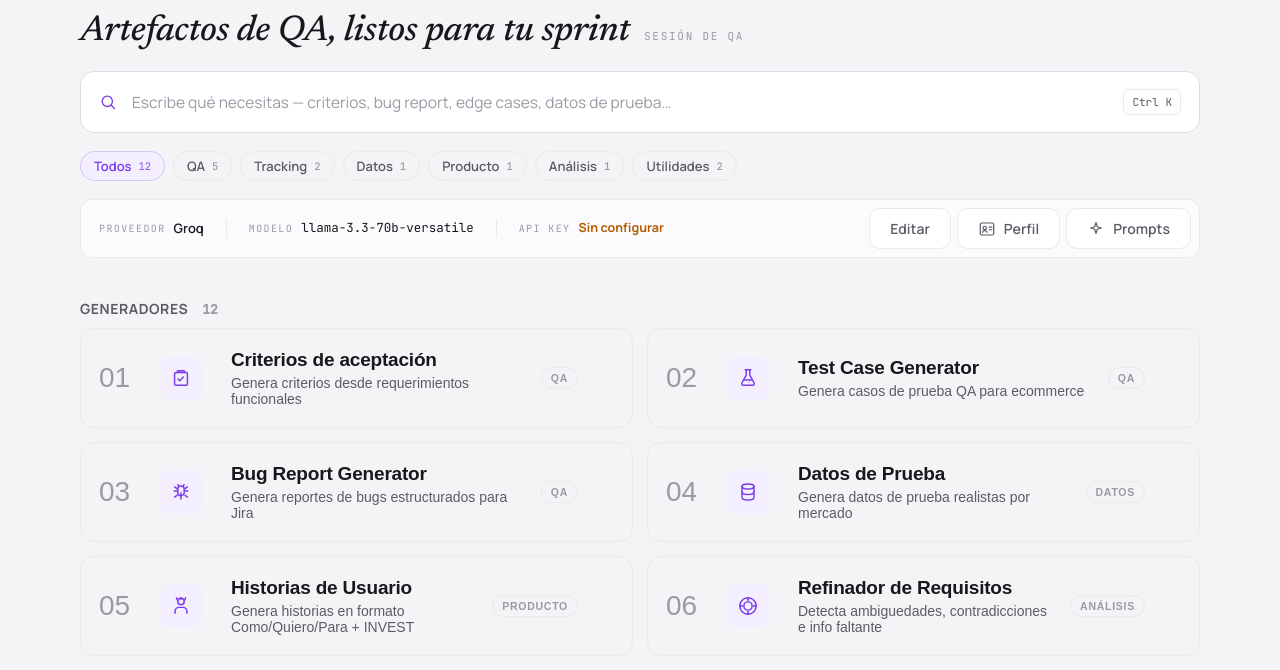
Test case: LandingScreen — buscador y filtros › filtra por texto sobre titulo y descripcion
Replace the text in the search field with class "ld-search-input" with "gherkin" at {"x": 621, "y": 102}, box 132,72 -> 1109,132
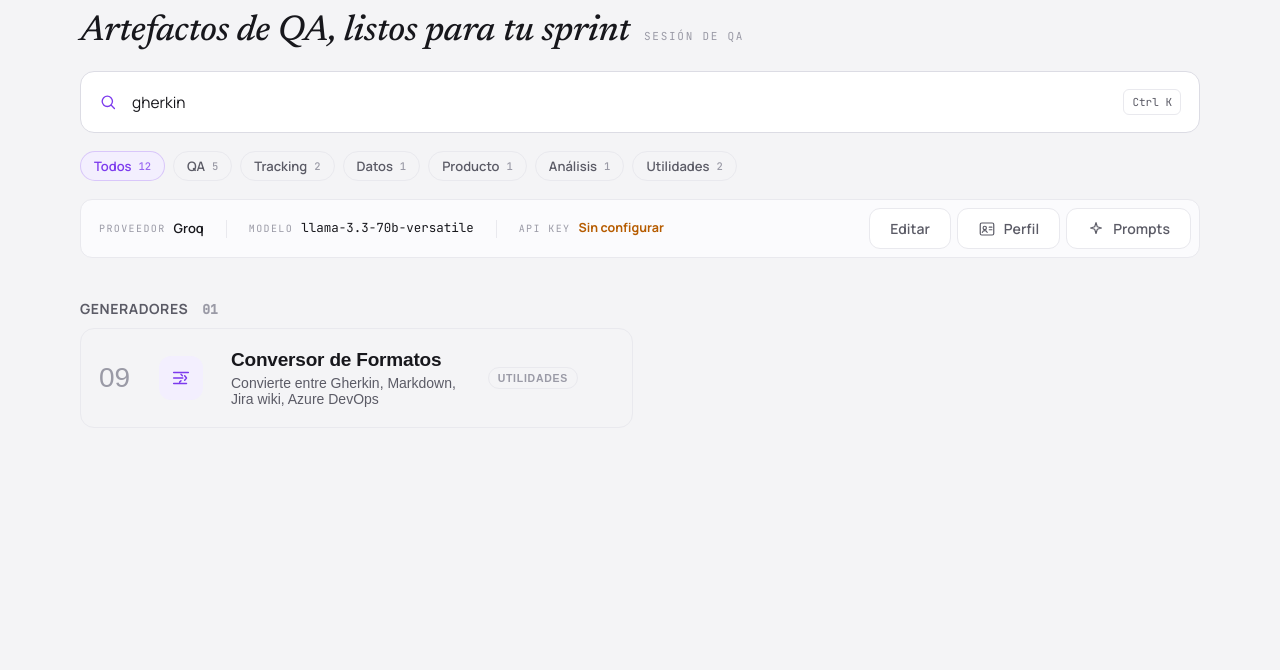
Expected: the button with class "tool-row" shows "Conversor de Formatos", 80,328 -> 633,428
Expected: the number of buttons with class "tool-row" is 1, 80,328 -> 633,428
